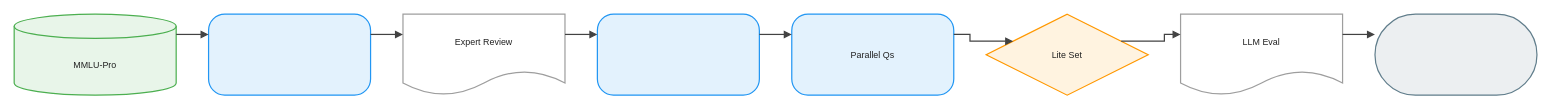
Image size: 1552x110. Some labels were removed from this diagram. The centre of each missing label's shape, as x and y in pixels:
"29 Langs" goes at point (678, 54).
"Avg Acc" goes at point (1455, 54).
"Translate" goes at point (289, 54).
